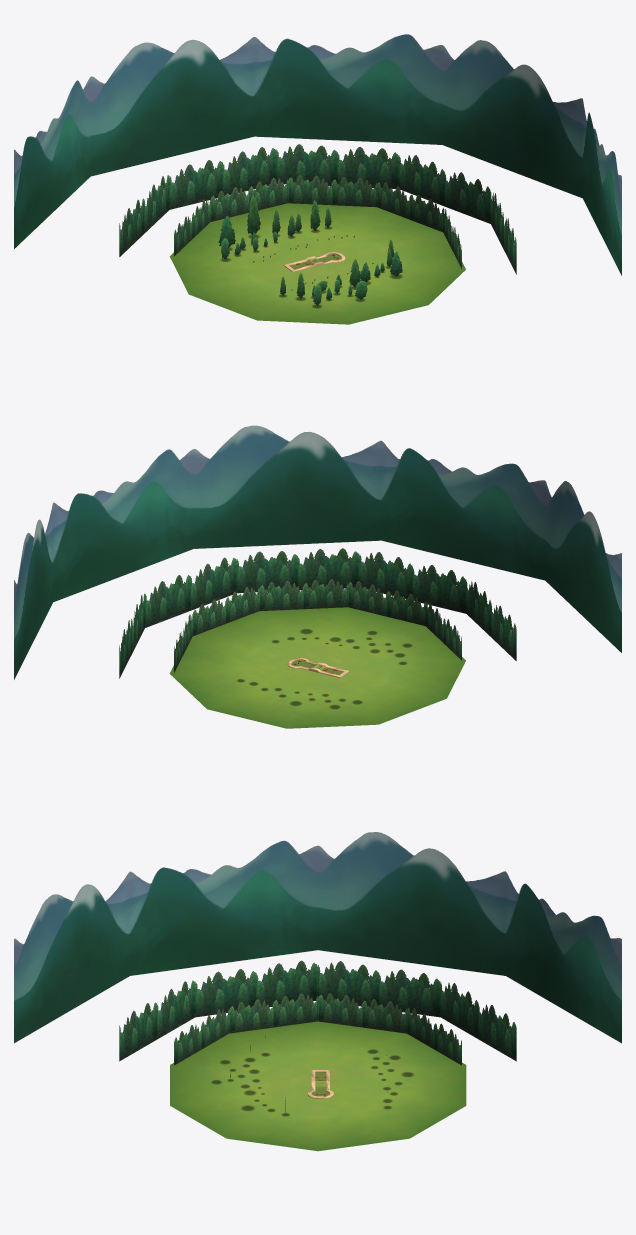
File: hole5.glb
3 views of the same model, one above another, from view 1: azimuth 30°, elevation 25°; view 2: azimuth 150°, elevation 25°; view 3: azimuth 270°, elevation 25° (orthographic). The views are drawn at different scales.
Visible parts, largest first — view 1: background1, grass_base, background3, background2; view 2: background1, grass_base, background3, background2; view 3: background1, grass_base, background3, background2.
Boxes of the visible parts, bbox=[...] form: background1: bbox=[14, 34, 621, 275]; grass_base: bbox=[169, 203, 465, 324]; background3: bbox=[119, 144, 516, 274]; background2: bbox=[174, 175, 461, 268]; background1: bbox=[14, 425, 621, 679]; grass_base: bbox=[169, 607, 465, 728]; background3: bbox=[119, 548, 516, 678]; background2: bbox=[174, 579, 461, 672]; background1: bbox=[14, 832, 621, 1043]; grass_base: bbox=[170, 1021, 466, 1151]; background3: bbox=[119, 960, 516, 1061]; background2: bbox=[174, 993, 461, 1065].
Size of what is drawn, in the model's own units: 347 by 85.67 by 330.
10 materials, 9 textured.
